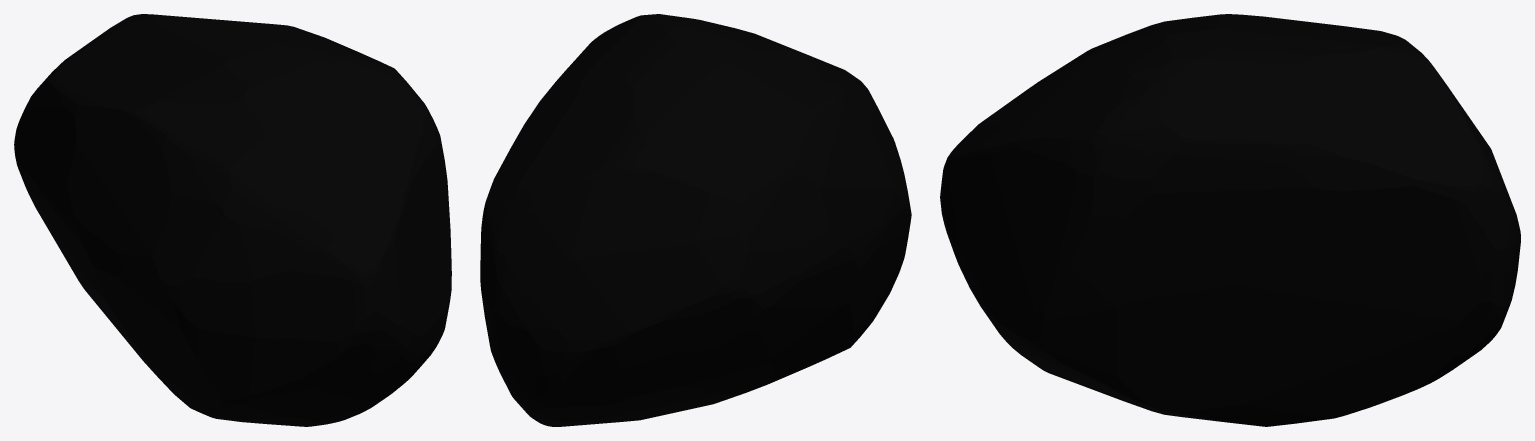
The picture shows the model from 3 angles, left to right: view 1: azimuth 30°, elevation 25°; view 2: azimuth 150°, elevation 25°; view 3: azimuth 270°, elevation 25°; orthographic projection. The views are drawn at different scales.
Parts seen in each view (by area): view 1: node_id3; view 2: node_id3; view 3: node_id3.
Part boxes in pixels (x1,y1,x2,y2): node_id3: (14,14,451,426); node_id3: (480,14,911,426); node_id3: (940,14,1520,426).
Size of the model in its own units: 0.3152 by 0.3529 by 0.512.
1 material, 1 textured.
